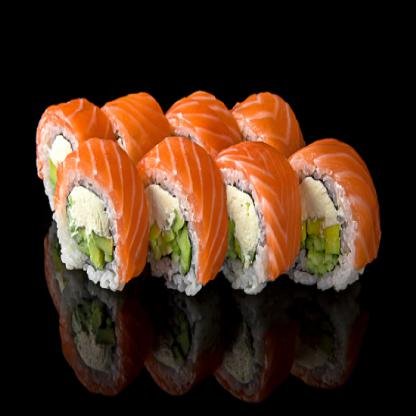philadelphia: (53, 132, 152, 300)
